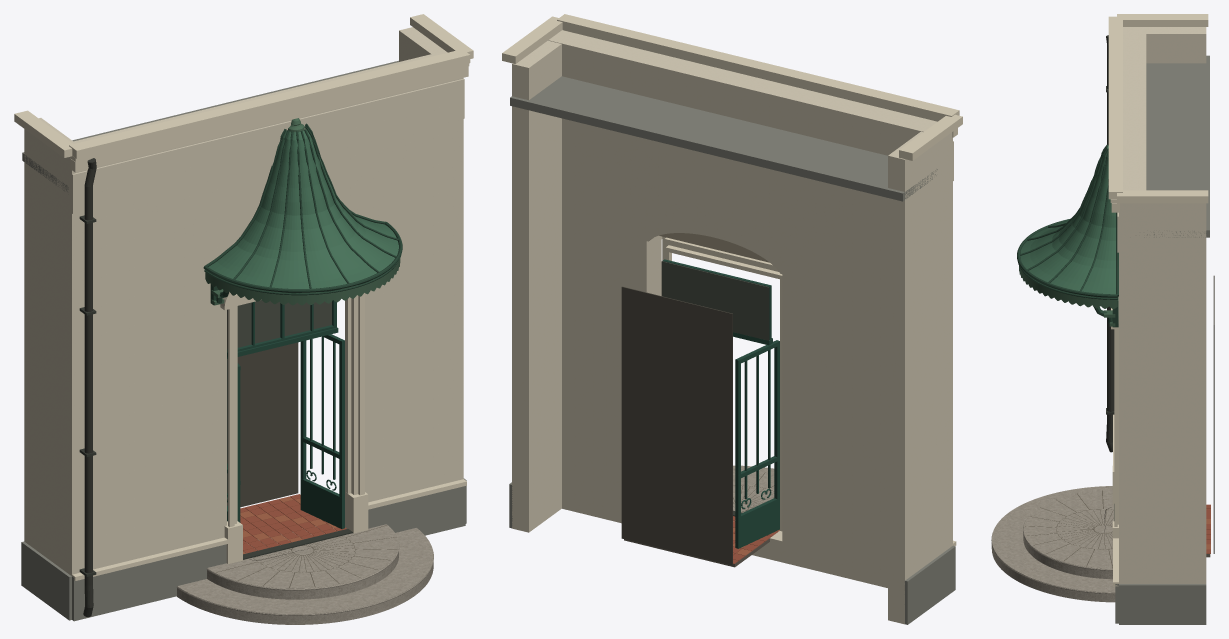
The model's file is xuhui-jianguo-602-west-canopy-web.glb.
3 renders of one model, left to right at view 1: azimuth 30°, elevation 25°; view 2: azimuth 150°, elevation 25°; view 3: azimuth 270°, elevation 25°, orthographic. The views are drawn at different scales.
Visible parts, largest first — view 1: 建国西路602号花园住宅西门与攒尖雨厦; view 2: 建国西路602号花园住宅西门与攒尖雨厦; view 3: 建国西路602号花园住宅西门与攒尖雨厦.
Boxes of the visible parts, x1=… form: 建国西路602号花园住宅西门与攒尖雨厦: x1=14, y1=14, x2=473, y2=624; 建国西路602号花园住宅西门与攒尖雨厦: x1=502, y1=14, x2=962, y2=624; 建国西路602号花园住宅西门与攒尖雨厦: x1=991, y1=14, x2=1214, y2=624.
Bounding box in the file's own units: 5.33 × 5.9 × 2.75.
19 materials, 2 textured.
